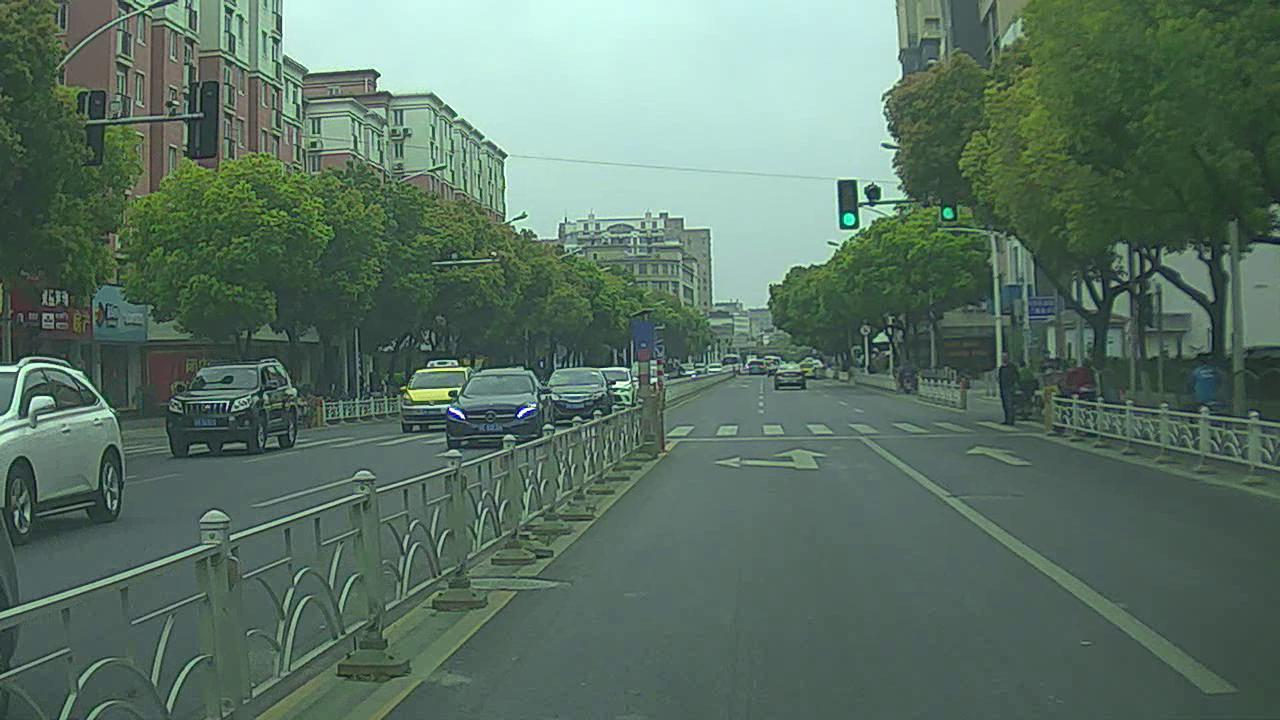traffic_light: (836, 177, 859, 231)
